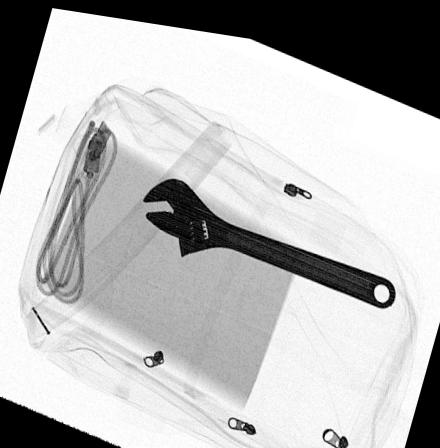Wrench: (141, 171, 398, 299)
